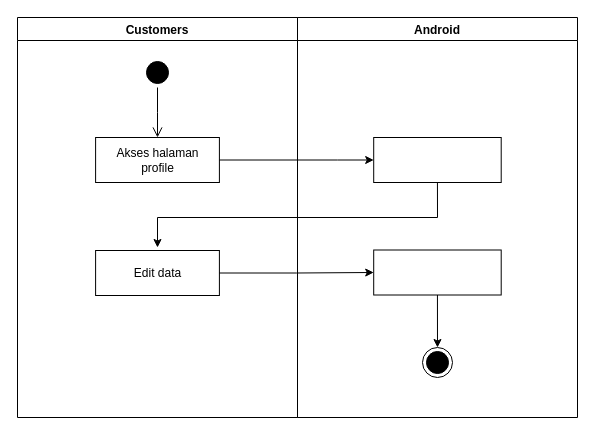
This 595x435 diagram has some shape labels left out. The centre of each missing label's shape, as x and y in pixels:
"Menampilkan halaman profile" belongs at (437,159).
"Menyimpan perubahan" belongs at (437,272).
